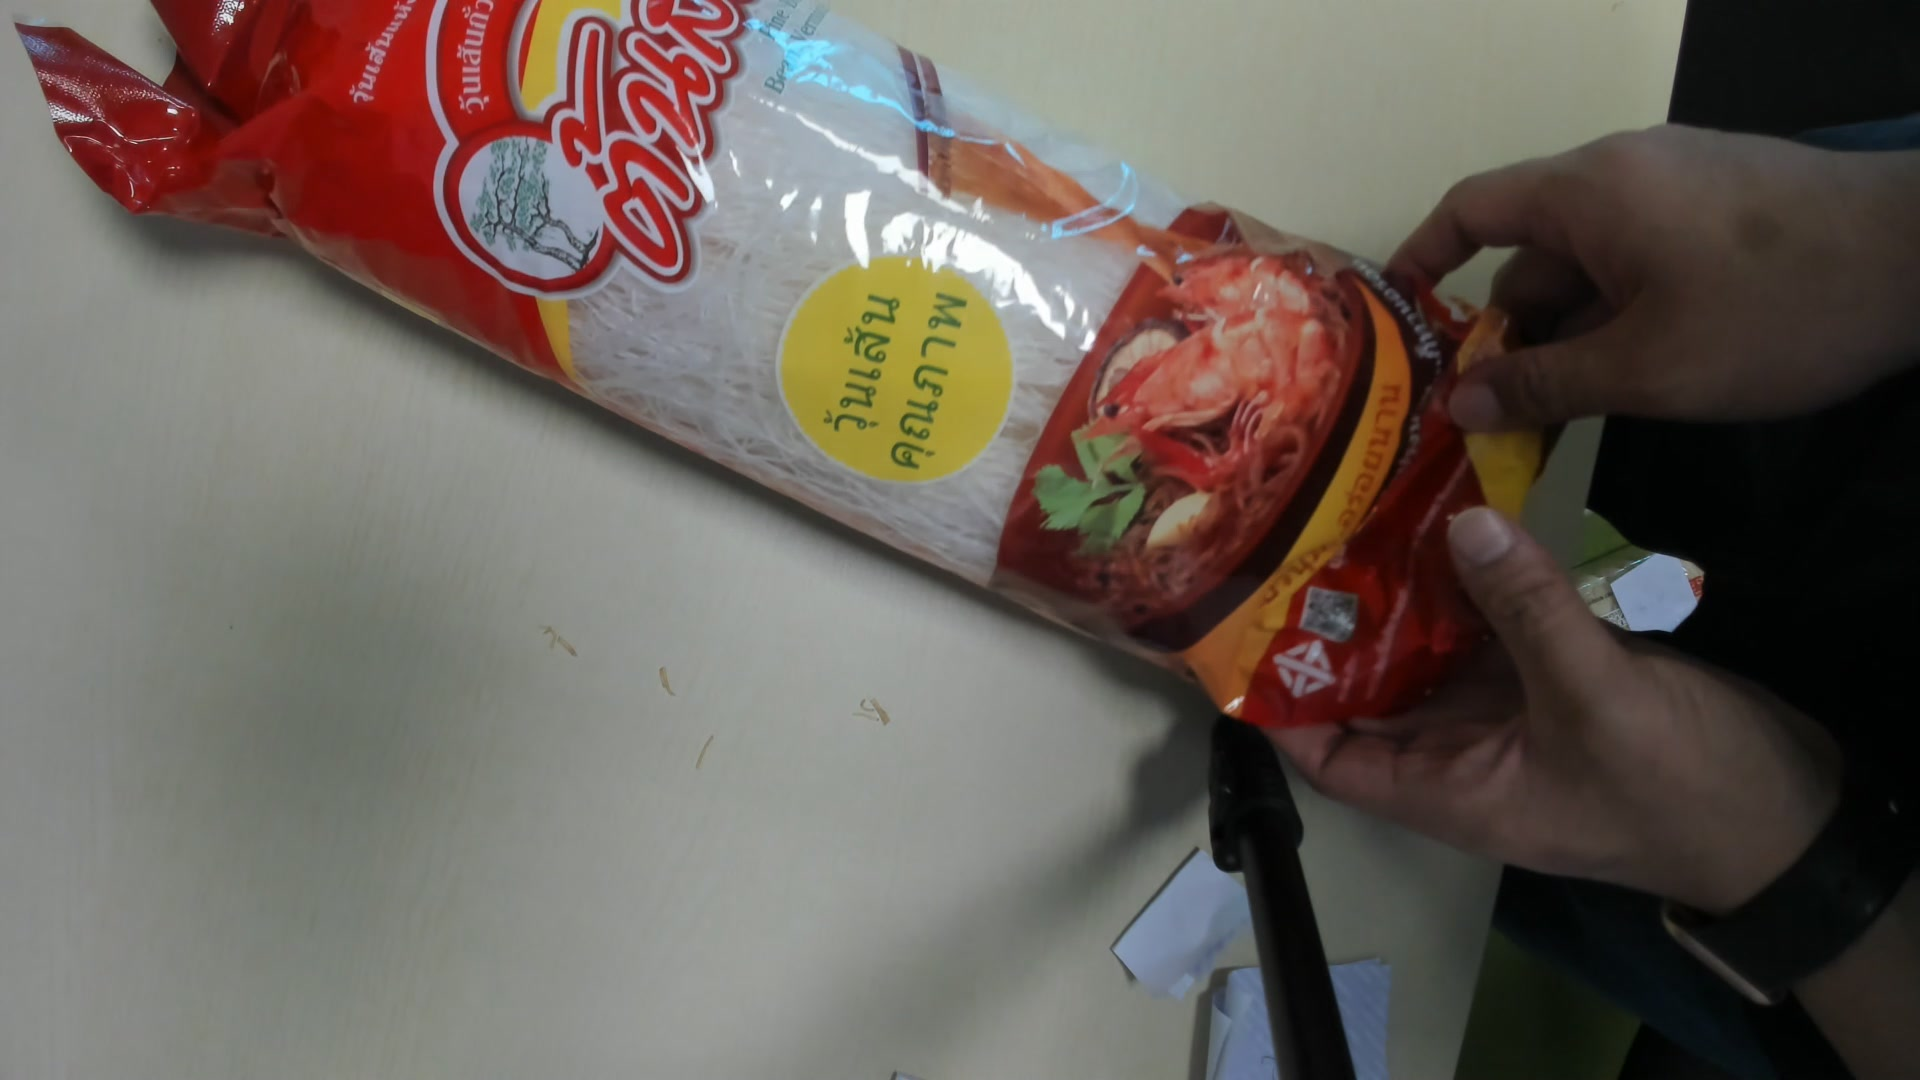BeeHoonVermicelli_500-599g_Halal_NonHealthy: (18, 1, 1575, 742)
